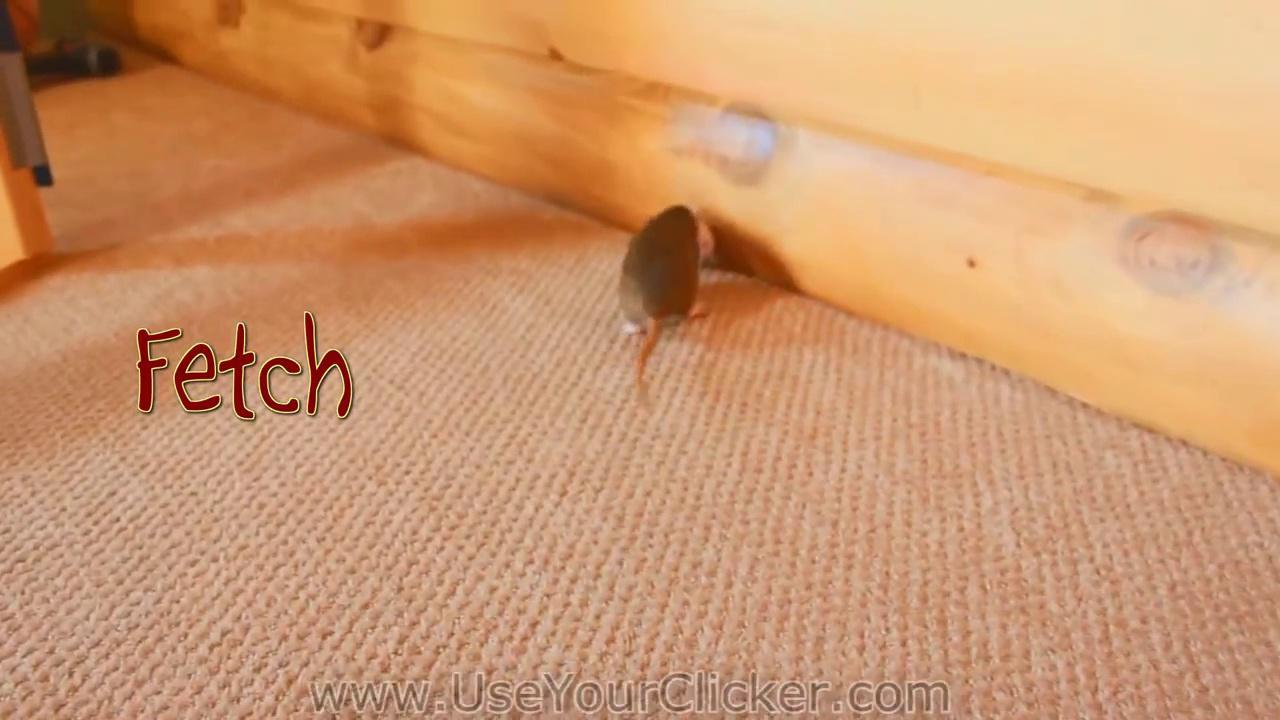rat: (616, 204, 698, 397)
